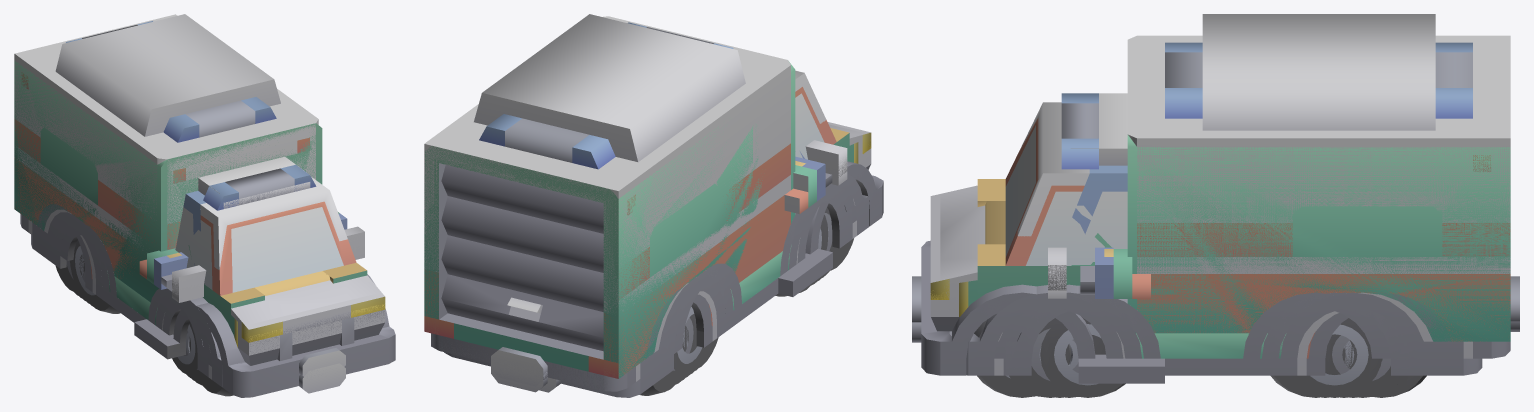
The model's file is cars.glb.
3 renders of one model, left to right at view 1: azimuth 30°, elevation 25°; view 2: azimuth 150°, elevation 25°; view 3: azimuth 270°, elevation 25°, orthographic. The views are drawn at different scales.
Visible parts, largest first — view 1: ambulance, delivery, truck, sedan, suv, police, van, sedan-sports, suv-luxury, taxi, hatchback-sports; view 2: ambulance, delivery, truck, sedan, suv, police, sedan-sports, hatchback-sports, van; view 3: ambulance, delivery, truck, sedan, suv, sedan-sports, police, van, hatchback-sports, taxi, suv-luxury.
Boxes of the visible parts, <box> form: ambulance: <box>14,14,395,396</box>; delivery: <box>14,60,395,397</box>; truck: <box>31,212,245,387</box>; sedan: <box>53,219,207,376</box>; suv: <box>60,212,367,366</box>; police: <box>28,209,354,382</box>; van: <box>154,177,347,377</box>; sedan-sports: <box>53,223,207,374</box>; suv-luxury: <box>54,218,330,300</box>; taxi: <box>220,262,366,303</box>; hatchback-sports: <box>107,271,157,325</box>; ambulance: <box>424,14,883,395</box>; delivery: <box>424,62,883,391</box>; truck: <box>444,142,869,397</box>; sedan: <box>665,188,851,376</box>; suv: <box>674,133,856,367</box>; police: <box>636,173,856,385</box>; sedan-sports: <box>665,193,851,375</box>; hatchback-sports: <box>730,245,791,310</box>; van: <box>558,145,852,385</box>; ambulance: <box>912,14,1519,397</box>; delivery: <box>912,93,1519,397</box>; truck: <box>949,233,1482,397</box>; sedan: <box>1005,274,1409,397</box>; suv: <box>977,244,1390,397</box>; sedan-sports: <box>1005,292,1409,396</box>; police: <box>994,266,1472,397</box>; van: <box>1003,165,1127,397</box>; hatchback-sports: <box>1136,333,1286,358</box>; taxi: <box>977,179,1077,293</box>; suv-luxury: <box>985,201,1405,397</box>.
Size of the model in its own units: 1.5 by 1.8 by 3.25.
